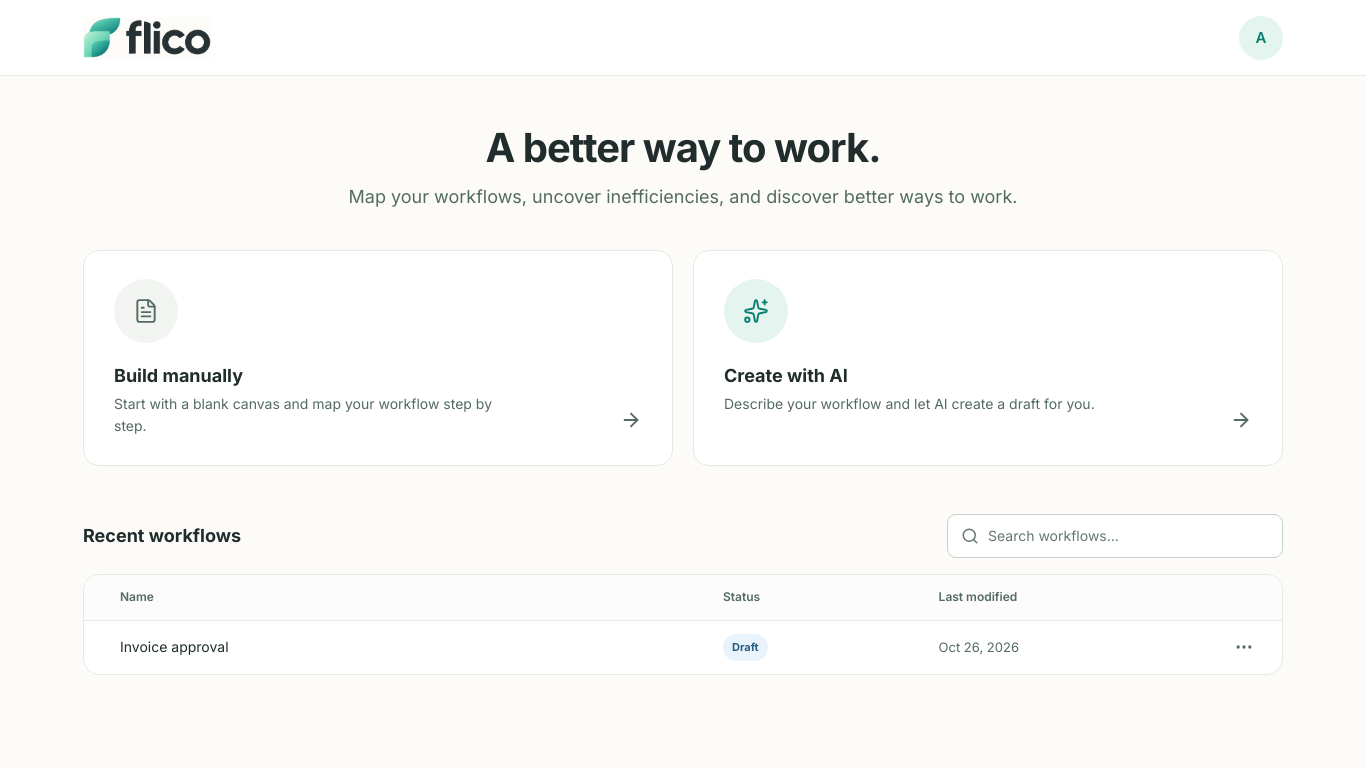
Scenario: dashboard › confirmed delete removes the workflow; the last one brings back the empty state (D07)
Step 1. Click the button named "Actions for Invoice approval" → [1244, 647], box [1222, 625, 1266, 669]
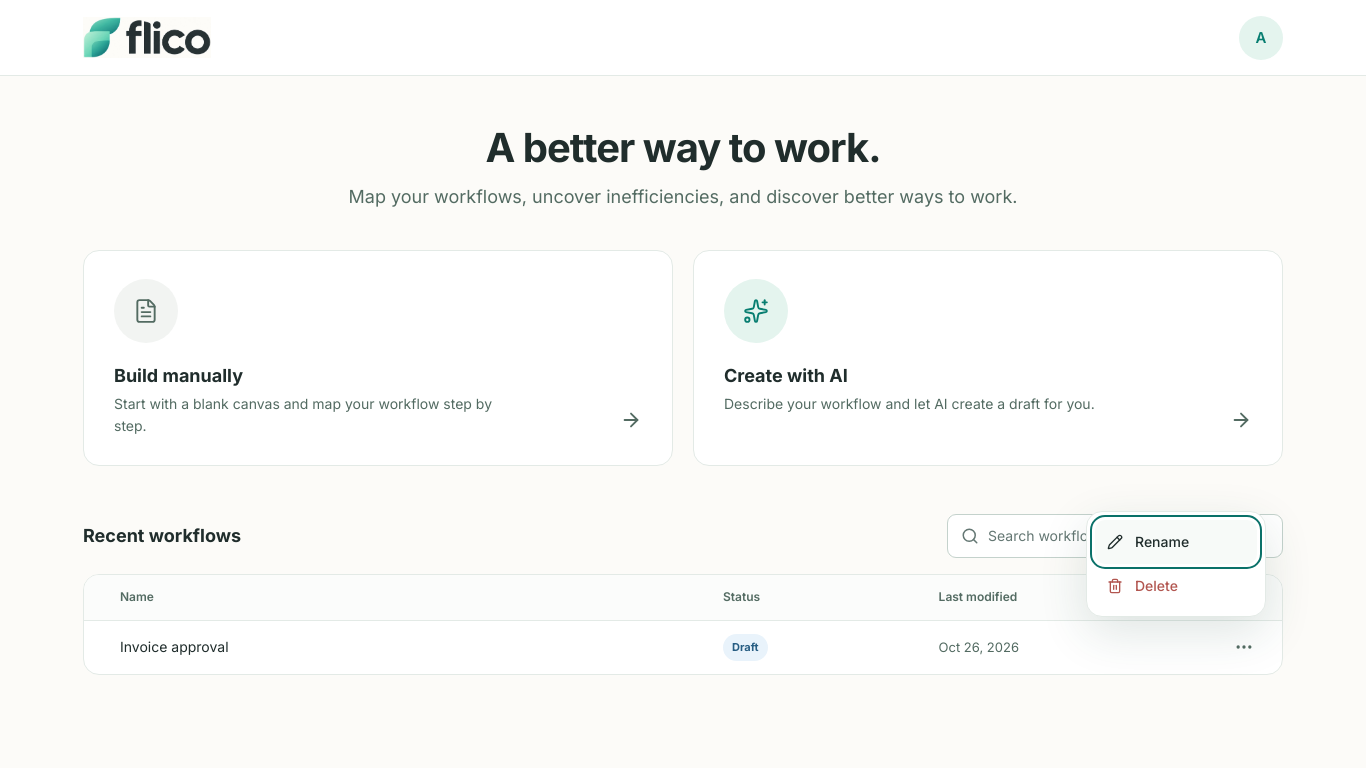
Step 2. Click the menu item "Delete" → [1176, 586], box [1095, 564, 1257, 608]
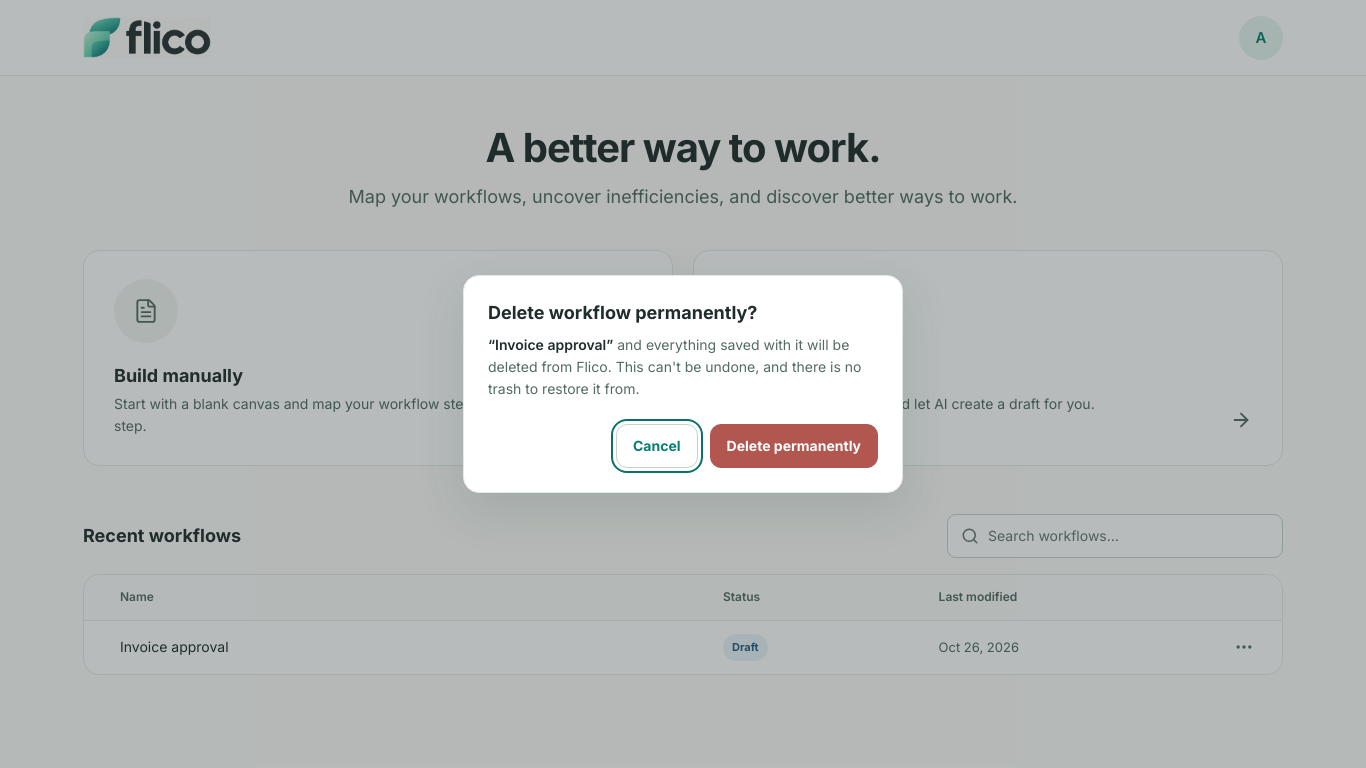
Step 3. Click the button "Delete permanently" → [794, 446], box [710, 424, 878, 468]
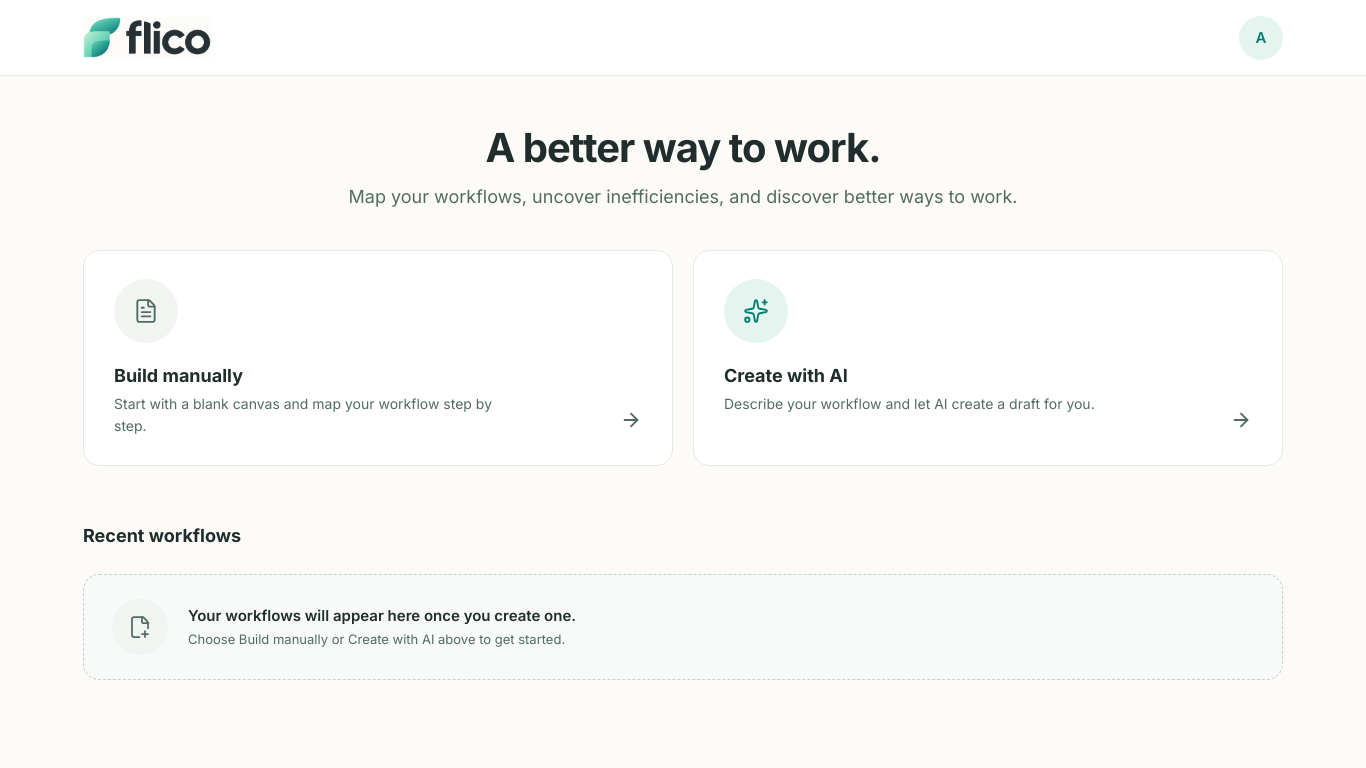
Now the text "Your workflows will appear here once you create one." is shown, box [188, 605, 576, 627]
Now the table is gone
